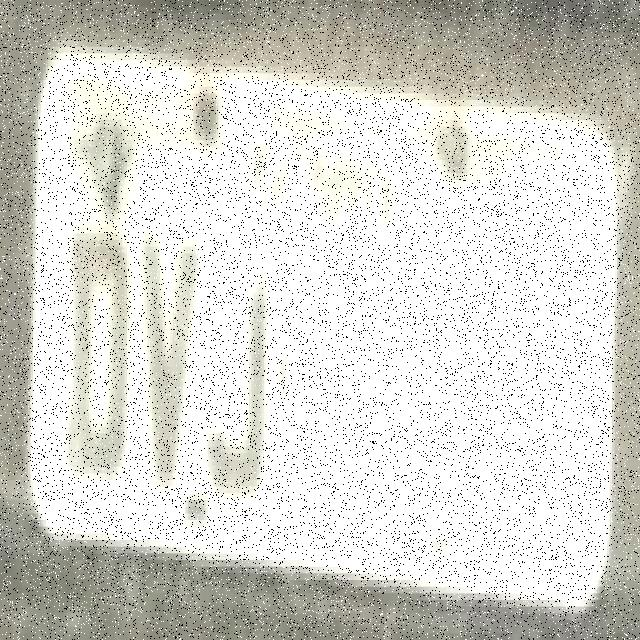licenseplate: (44, 46, 633, 615)
